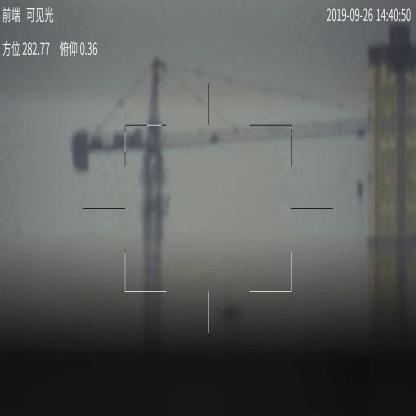uav: (218, 300, 250, 322)
